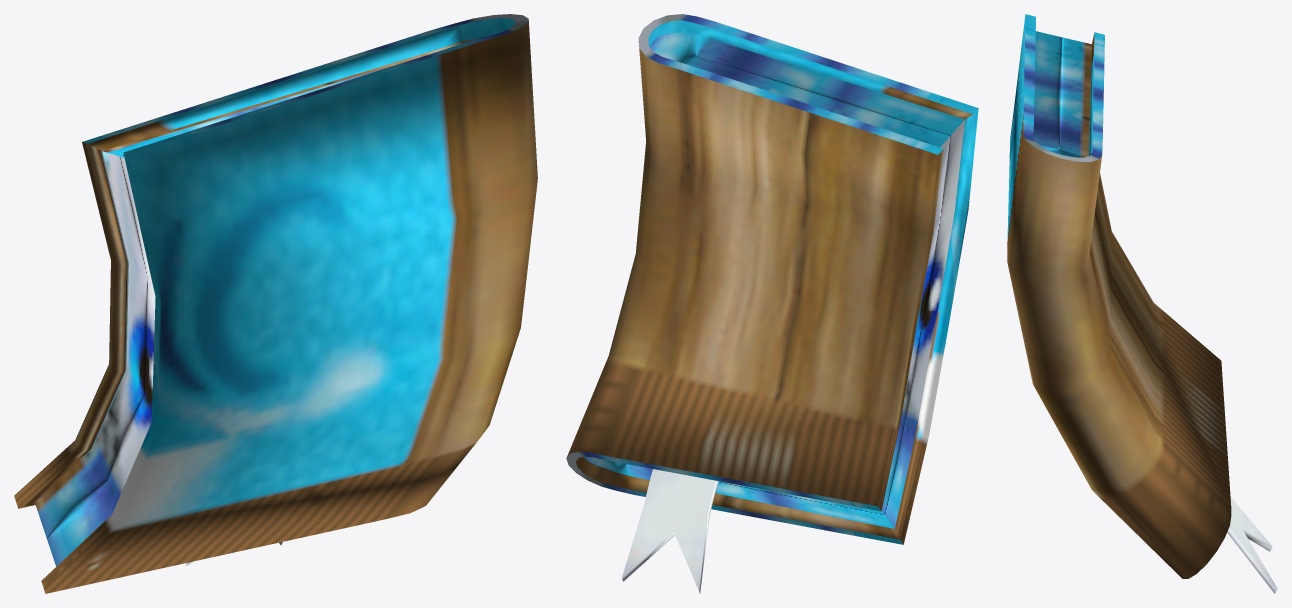
File: icon.icn.obj
The picture shows the model from 3 angles, left to right: view 1: azimuth 30°, elevation 25°; view 2: azimuth 150°, elevation 25°; view 3: azimuth 270°, elevation 25°; orthographic projection. The views are drawn at different scales.
Size of the model in its own units: 2.74 by 3.78 by 1.92.
